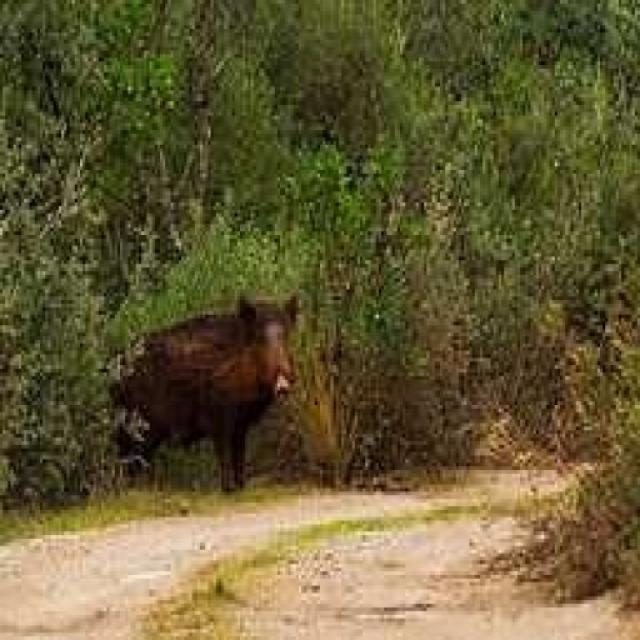pig: (135, 285, 306, 469)
